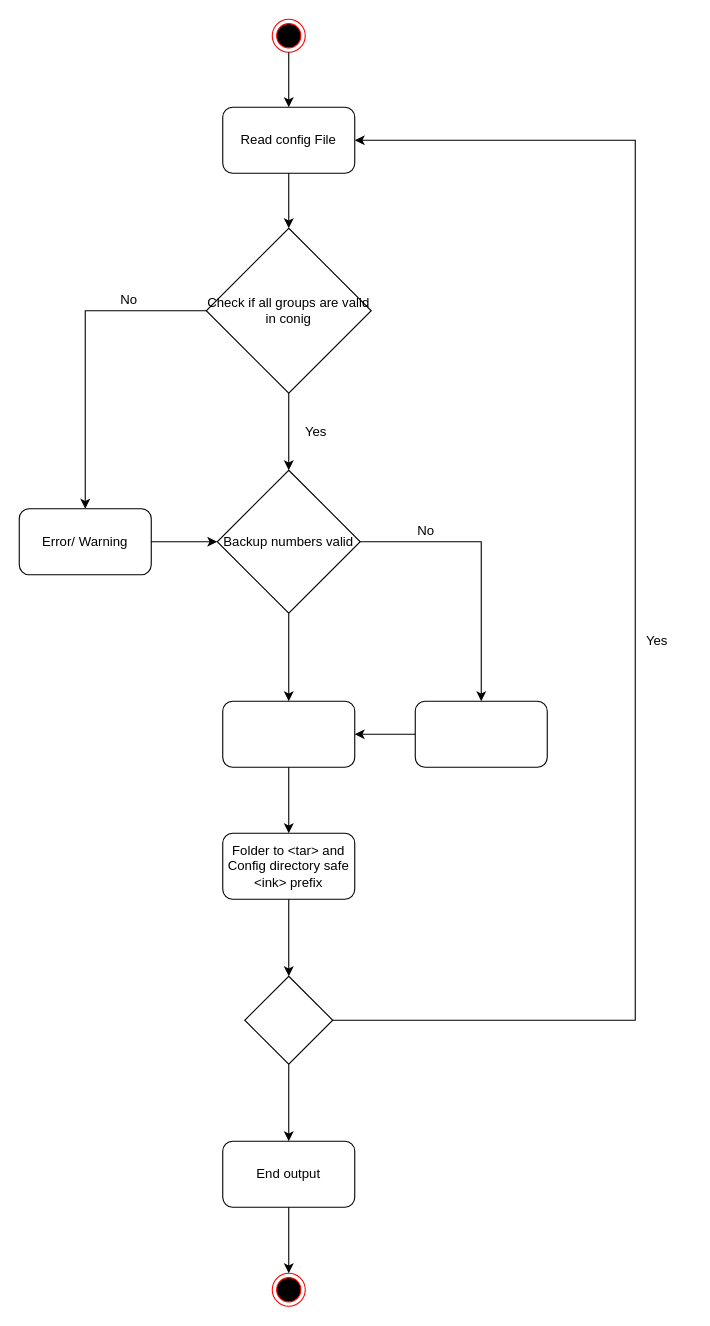
The diagram is 710 pixels wide and 1326 high, and some of its shapes have lost their labels. The shapes that lost their labels are listed below. From the top down, each one's centre as x and y in pixels, then its label:
At (288,733): "Find all homedir".
At (480,733): "Delete oldest Backup".
At (288,1019): "Has new line".
